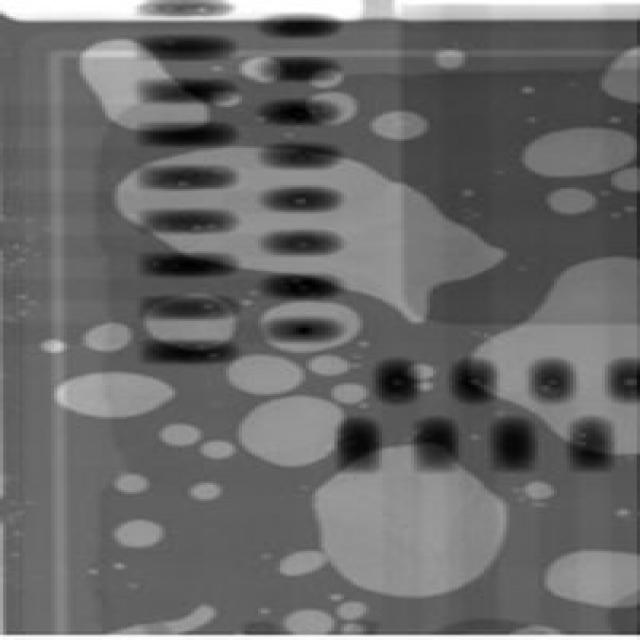component: (6, 20, 640, 636)
void: (2, 7, 640, 639), (5, 20, 640, 639), (2, 20, 640, 636), (115, 146, 506, 323), (474, 257, 640, 455), (315, 446, 509, 599), (80, 39, 210, 130), (239, 396, 344, 468), (525, 128, 640, 177), (54, 373, 175, 419), (548, 551, 640, 610), (261, 303, 363, 354), (143, 296, 236, 350), (226, 357, 306, 397), (111, 606, 217, 636), (261, 93, 357, 125), (602, 46, 640, 103), (439, 620, 560, 636), (369, 111, 430, 140), (181, 80, 242, 106), (83, 323, 134, 352), (548, 187, 599, 216), (111, 521, 162, 548), (280, 551, 328, 578), (283, 611, 331, 636), (239, 57, 277, 83), (159, 426, 201, 447), (331, 383, 369, 406), (309, 357, 350, 377), (115, 474, 150, 495), (201, 440, 236, 461), (522, 481, 557, 502), (611, 168, 640, 192), (188, 483, 223, 502), (309, 70, 344, 88), (338, 603, 369, 621), (417, 364, 436, 393), (436, 50, 465, 69), (513, 628, 564, 636), (414, 364, 436, 381), (41, 341, 67, 354), (341, 626, 366, 636), (615, 508, 630, 520), (111, 563, 124, 571), (331, 595, 344, 603), (522, 86, 535, 94), (608, 116, 621, 124), (86, 569, 99, 577), (462, 189, 474, 197), (263, 554, 274, 562), (525, 116, 535, 124), (611, 212, 621, 218)
